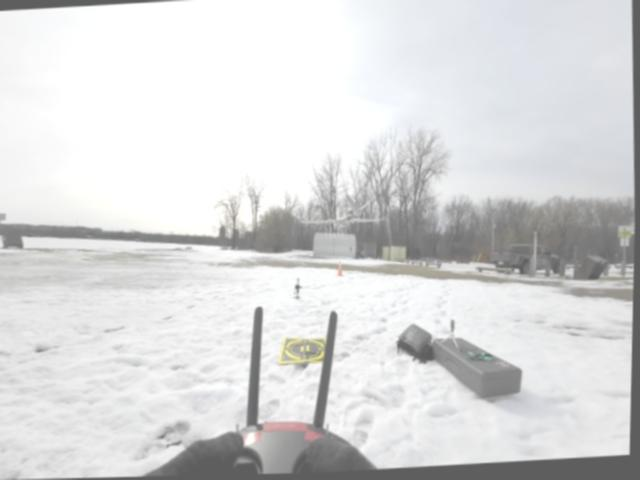plane: (300, 194, 385, 234)
